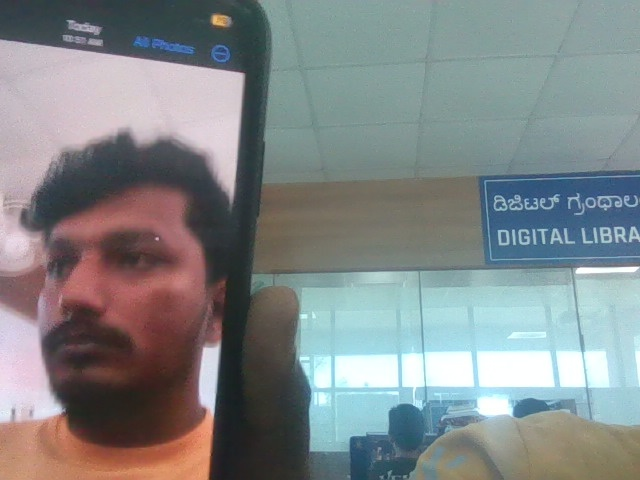fake: (7, 98, 237, 424)
